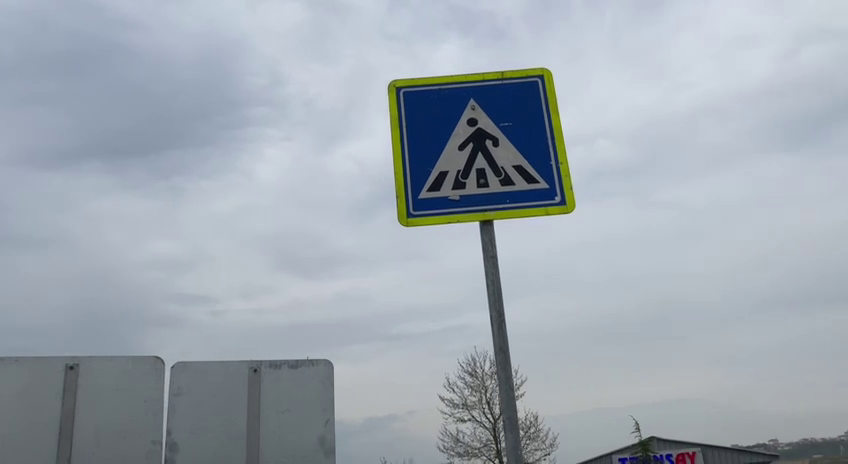pedestrianCrossing: (386, 63, 577, 229)
